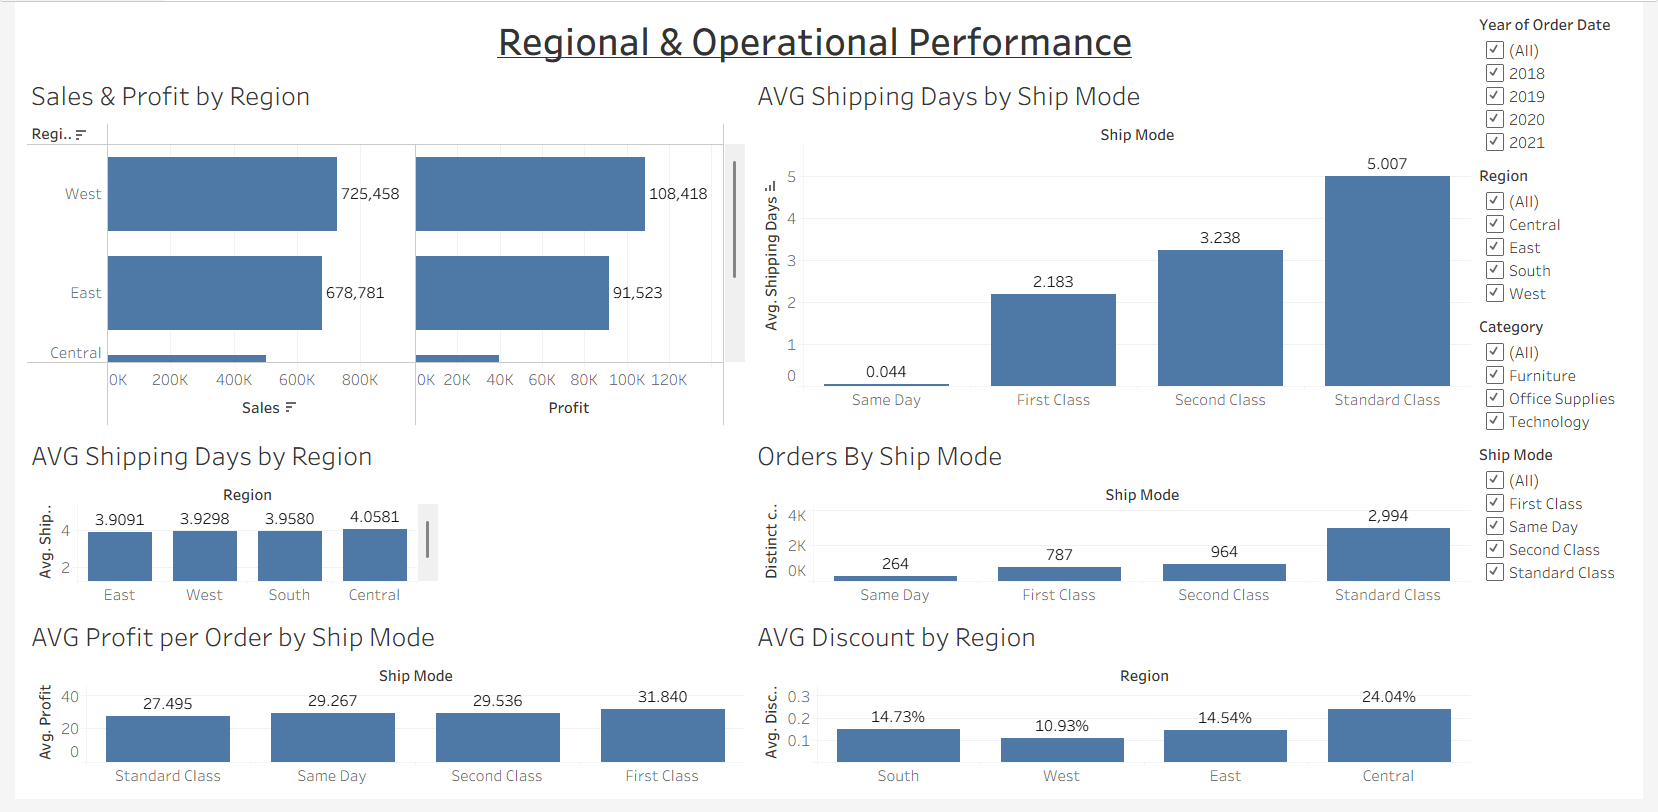

Layout of this report page (visuals, bound fields, positions):
{"tool":"tableau","page":{"name":"Regional & Operational Performance","canvas":[1000,1000],"units":"permille","ordinal":2},"visuals":[{"type":"title","box":[4.9,10,891.9,75.3]},{"type":"filter","title":"AVG Discount by Region","param":"[federated.1gtzsag1ka75q415ttkdo1e7j2h4].[yr:Order Date:ok]","box":[896.8,10,98.3,189.5]},{"type":"worksheet","title":"Sales & Profit by Region","mark":"Automatic","rows":["Region"],"cols":["Sales","Profit"],"box":[4.9,85.3,445.9,452.3]},{"type":"worksheet","title":"AVG Shipping Days by Ship Mode","mark":"Automatic","rows":["Calculation_0067396820189186"],"cols":["Ship Mode"],"box":[450.9,85.3,445.9,452.3]},{"type":"filter","title":"AVG Discount by Region","param":"[federated.1gtzsag1ka75q415ttkdo1e7j2h4].[none:Region:nk]","box":[896.8,199.5,98.3,189.5]},{"type":"filter","title":"AVG Discount by Region","param":"[federated.1gtzsag1ka75q415ttkdo1e7j2h4].[none:Category:nk]","box":[896.8,389,98.3,160.6]},{"type":"worksheet","title":"AVG Shipping Days by Region","mark":"Automatic","rows":["Calculation_0067396820189186"],"cols":["Region"],"box":[4.9,537.6,445.9,226.1]},{"type":"worksheet","title":"Orders By Ship Mode","mark":"Automatic","rows":["Order ID"],"cols":["Ship Mode"],"box":[450.9,537.6,445.9,226.1]},{"type":"filter","title":"AVG Discount by Region","param":"[federated.1gtzsag1ka75q415ttkdo1e7j2h4].[none:Ship Mode:nk]","box":[896.8,549.6,98.3,189.5]},{"type":"worksheet","title":"AVG Profit per Order by Ship Mode","mark":"Automatic","rows":["Profit"],"cols":["Ship Mode"],"box":[4.9,763.8,445.9,226.2]},{"type":"worksheet","title":"AVG Discount by Region","mark":"Automatic","rows":["Discount"],"cols":["Region"],"box":[450.9,763.8,445.9,226.2]}]}

Visuals, with their boxes on the dashboard's canvas, which has no fixed pixel size, in thousandths of its width and height (x1, y1, x2, y2). These are canvas units, not pixel positions in the 1658x812 screenshot, which may show the page scaled, cropped or inside an application window:
title: crop(5, 10, 897, 85)
"AVG Discount by Region" filter: crop(897, 10, 995, 200)
"Sales & Profit by Region" worksheet: crop(5, 85, 451, 538)
"AVG Shipping Days by Ship Mode" worksheet: crop(451, 85, 897, 538)
"AVG Discount by Region" filter: crop(897, 200, 995, 389)
"AVG Discount by Region" filter: crop(897, 389, 995, 550)
"AVG Shipping Days by Region" worksheet: crop(5, 538, 451, 764)
"Orders By Ship Mode" worksheet: crop(451, 538, 897, 764)
"AVG Discount by Region" filter: crop(897, 550, 995, 739)
"AVG Profit per Order by Ship Mode" worksheet: crop(5, 764, 451, 990)
"AVG Discount by Region" worksheet: crop(451, 764, 897, 990)
